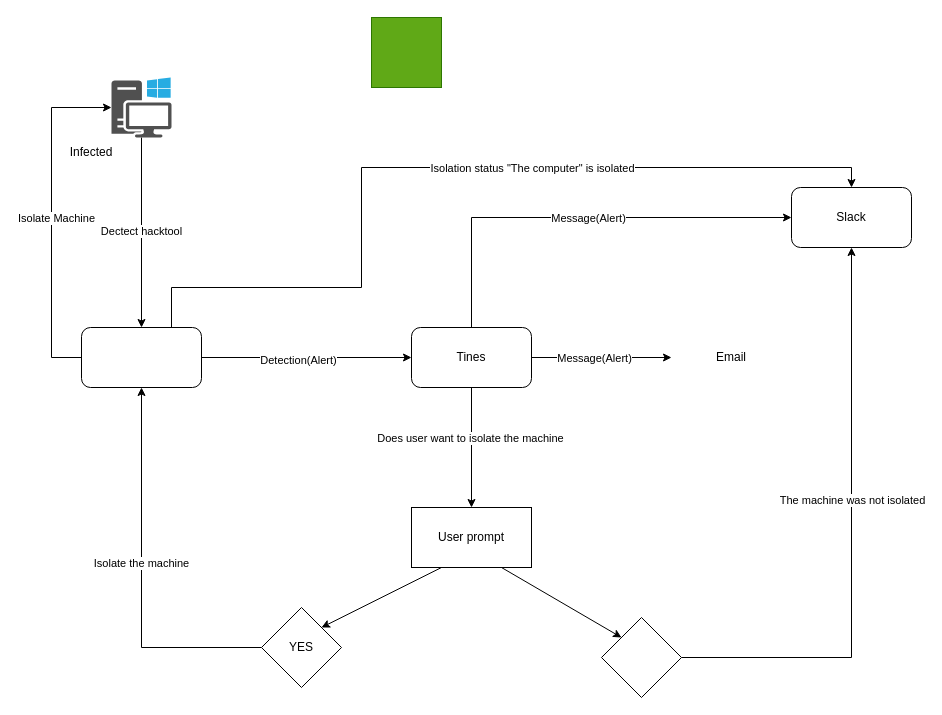
The diagram is 942 pixels wide and 715 high, and some of its shapes have lost their labels. Each missing label, with the centre of its shape:
"LimaCharlie" belongs at (x=141, y=357).
"NO" belongs at (x=641, y=657).
"SOAR EDR Playbook" belongs at (x=406, y=52).
